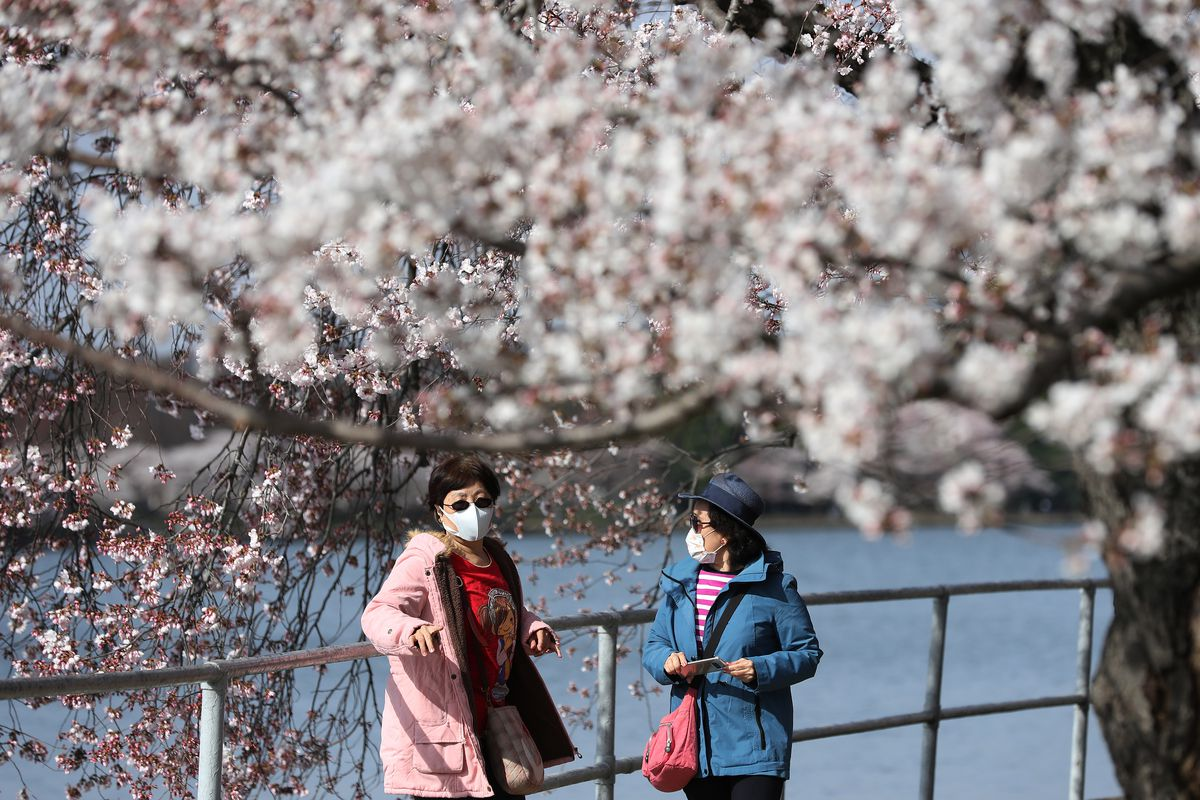Person: (361, 457, 581, 800), (644, 475, 824, 800)
